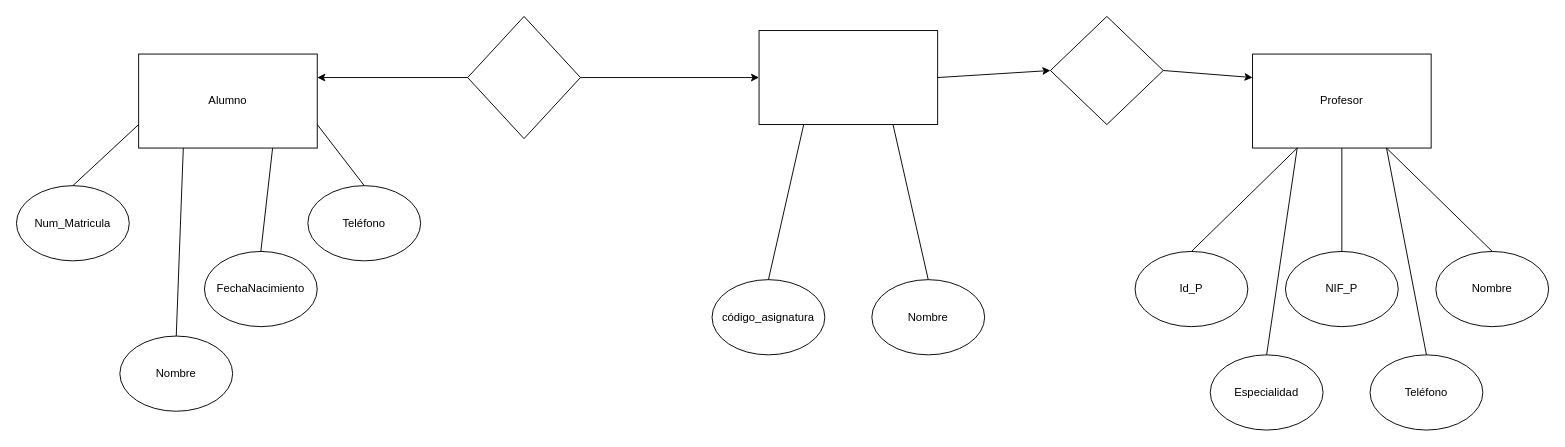
This 1565x447 diagram has some shape labels left out. The shapes that lost their labels are listed below. From the top down, each one's box as (x1, y1, x2, y2) in pixels, then its label:
(467, 16, 580, 139): Está matriculado
(758, 30, 938, 125): Asignatura
(1050, 16, 1163, 125): enseña
